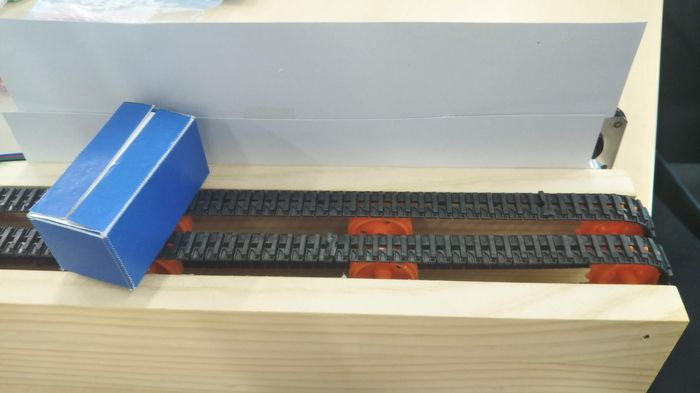box3: (21, 100, 210, 289)
